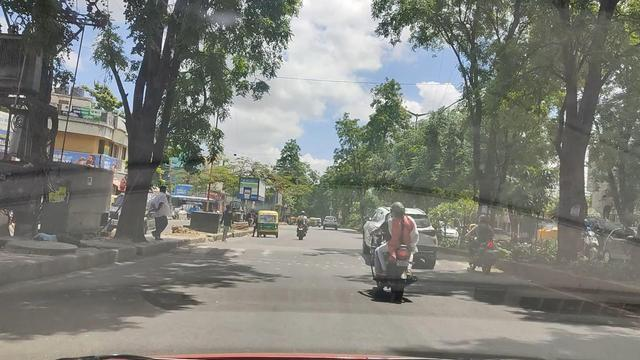LMV: (373, 202, 416, 307)
SpeedBump: (187, 242, 357, 257)
